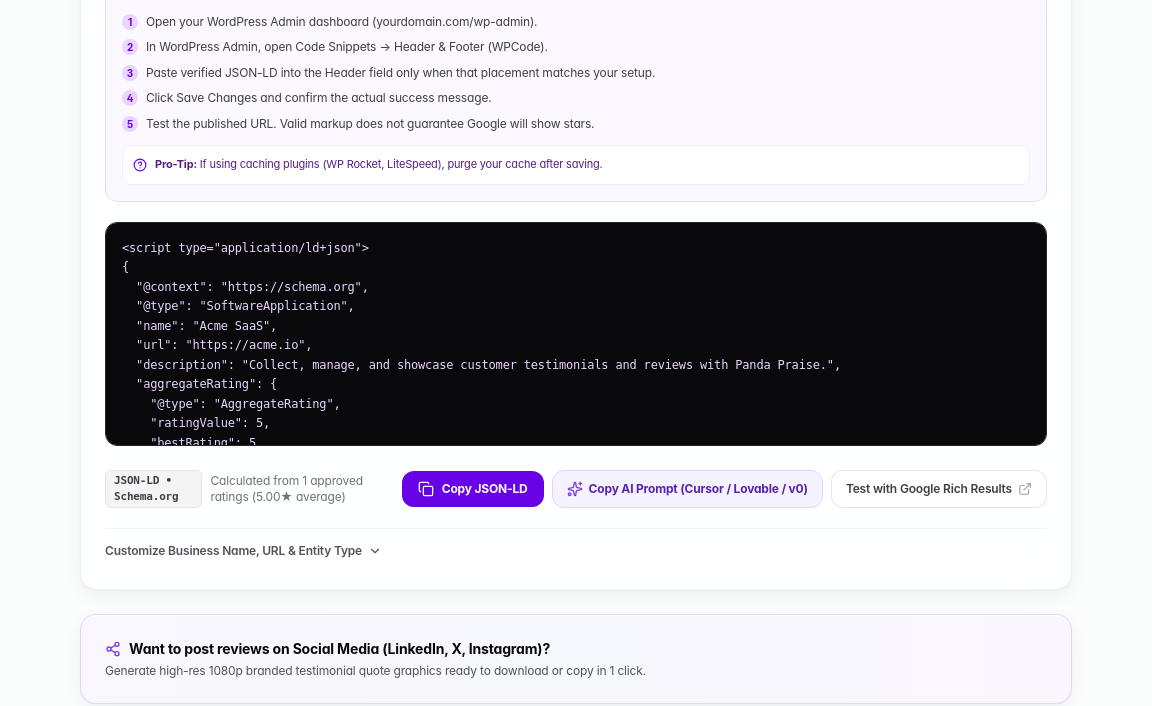
it: RichSnippetView - Google Search Star Generator › 2. Action dock: copies schema code when eligible reviews exist and displays status pill
The width and height of the screenshot is (1152, 706).
(page scrolled)
Step 1. Click the button "Copy JSON-LD" → (473,489), box [402,471,544,507]
(page scrolled)
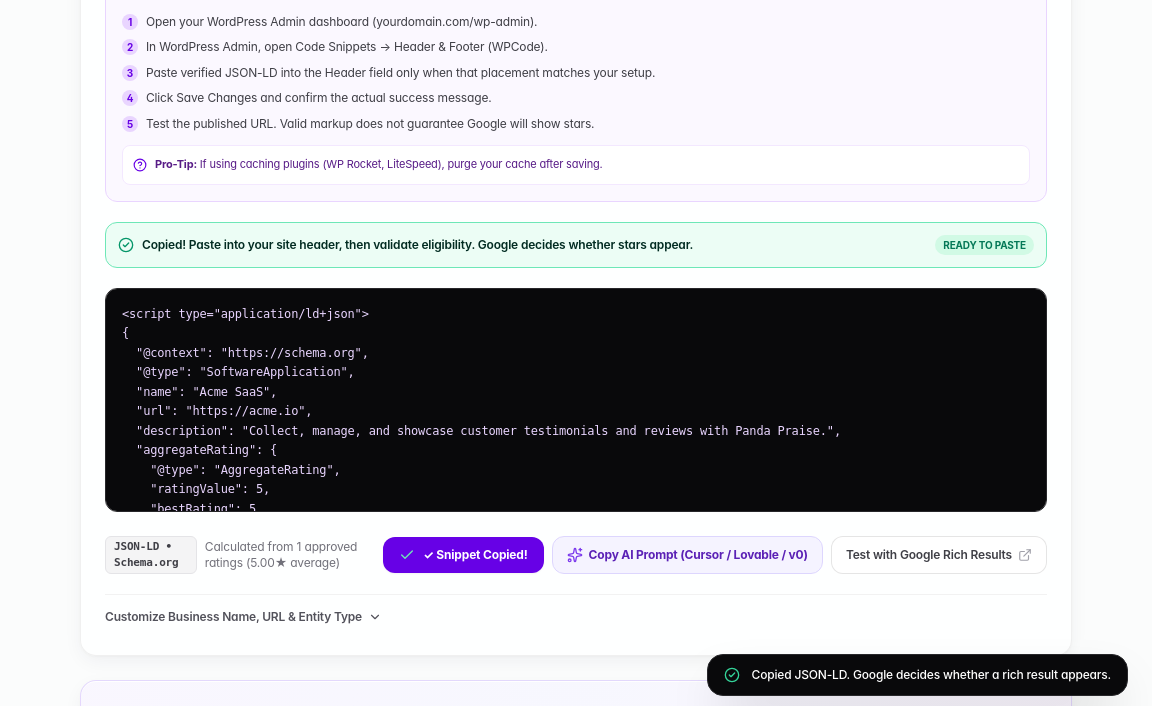
Result: the text "Copied! Paste into your site header, then validate eligibility." is shown at [142,237,693,252]
